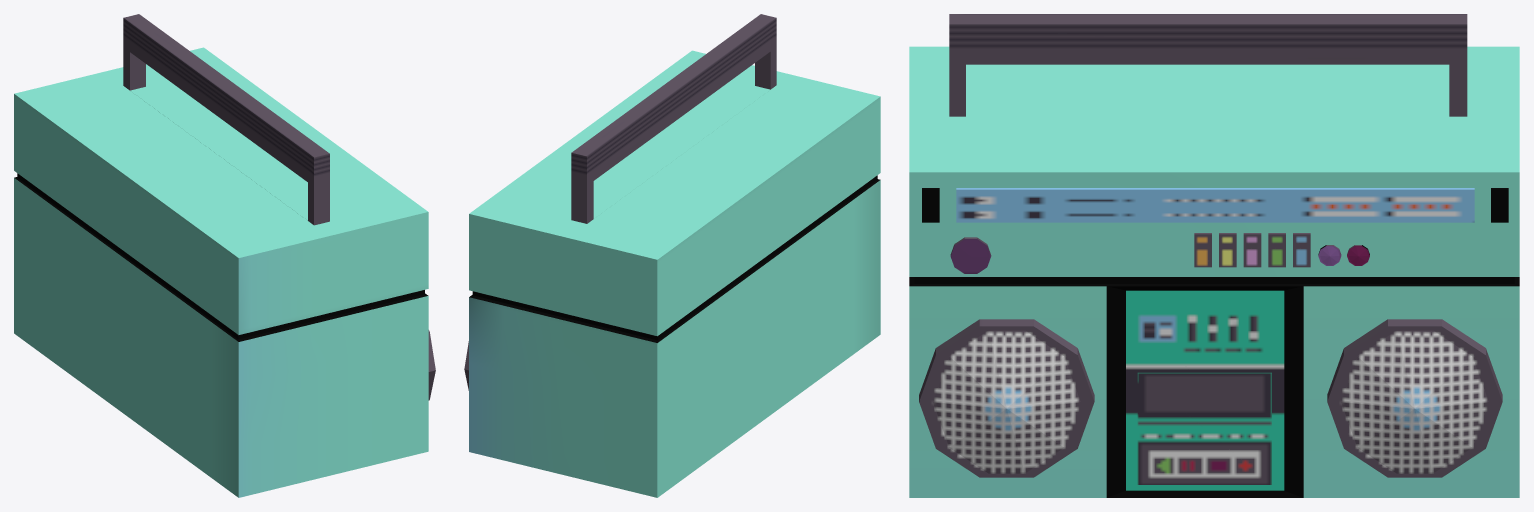
The model's file is Beach_BoomBox.fbx.
The picture shows the model from 3 angles, left to right: view 1: azimuth 30°, elevation 25°; view 2: azimuth 150°, elevation 25°; view 3: azimuth 270°, elevation 25°; orthographic projection. The views are drawn at different scales.
Visible parts, largest first — view 1: BumBix; view 2: BumBix; view 3: BumBix.
Boxes of the visible parts, <box> form: BumBix: <box>14,14,435,497</box>; BumBix: <box>464,14,880,497</box>; BumBix: <box>909,14,1519,497</box>.
Size of the model in its own units: 67.96 by 94.79 by 125.
